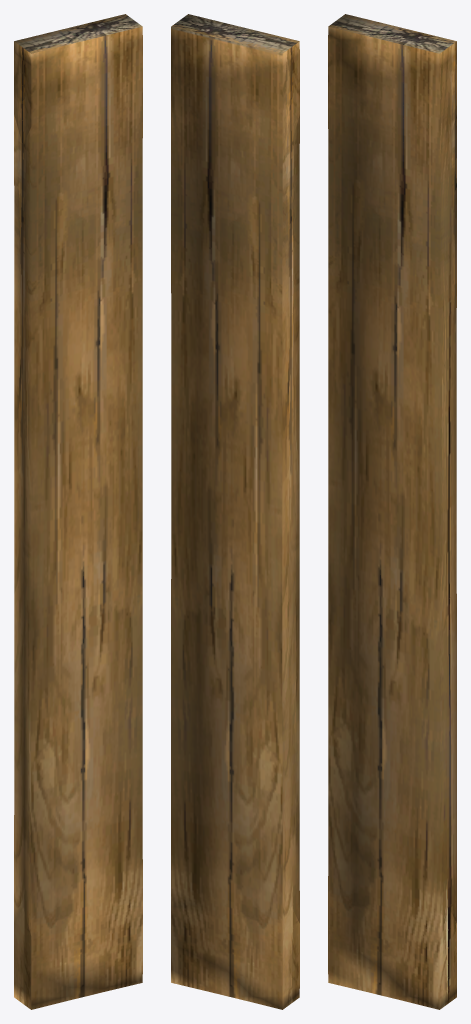
Rendered from plank03.obj.
3 renders of one model, left to right at view 1: azimuth 30°, elevation 25°; view 2: azimuth 150°, elevation 25°; view 3: azimuth 330°, elevation 25°, orthographic.
Visible parts, largest first — view 1: plank03; view 2: plank03; view 3: plank03.
Boxes of the visible parts, <box> form: plank03: <box>14,14,142,1009</box>; plank03: <box>171,14,299,1009</box>; plank03: <box>328,14,456,1009</box>.
Bounding box in the file's own units: 37.06 × 304 × 9.96.
Materials: 1 (1 with a texture image).
